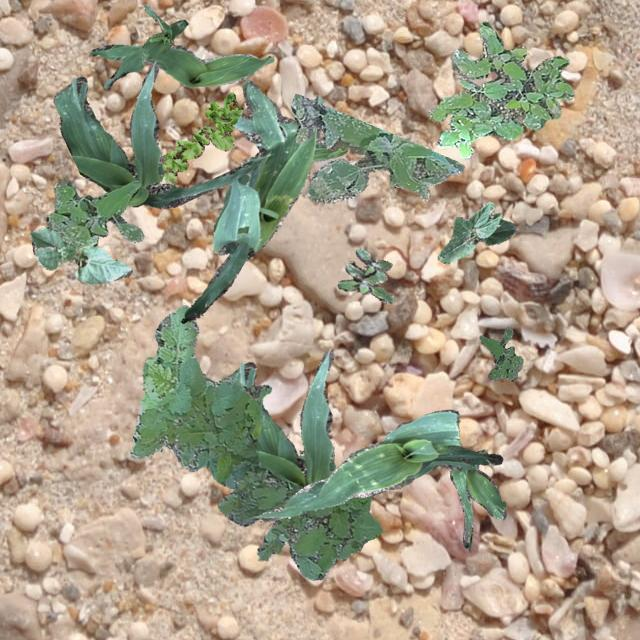crop: (180, 80, 348, 322), (52, 61, 260, 207), (225, 346, 436, 486), (253, 408, 502, 522), (90, 44, 272, 86), (102, 4, 186, 88), (448, 448, 506, 548), (29, 225, 130, 282), (436, 200, 516, 262)
weed: (130, 304, 380, 578), (428, 21, 572, 158), (290, 92, 462, 202), (160, 92, 242, 185), (44, 178, 142, 246), (337, 246, 392, 302), (478, 326, 522, 380)
